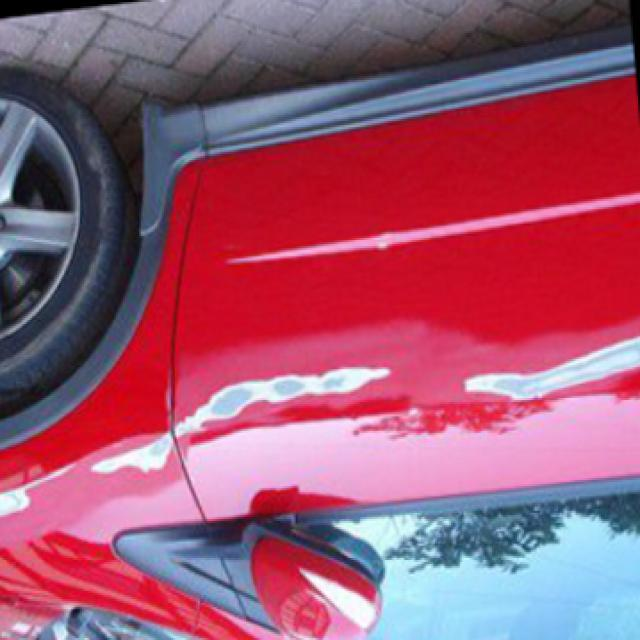scratch: (84, 346, 396, 496), (448, 327, 636, 411), (0, 447, 75, 540)
